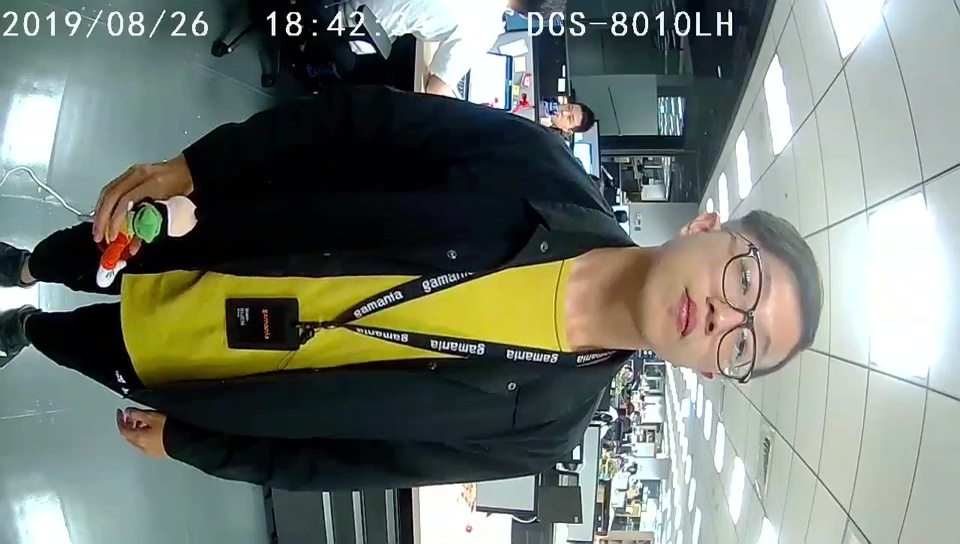goofy: (93, 190, 200, 291)
